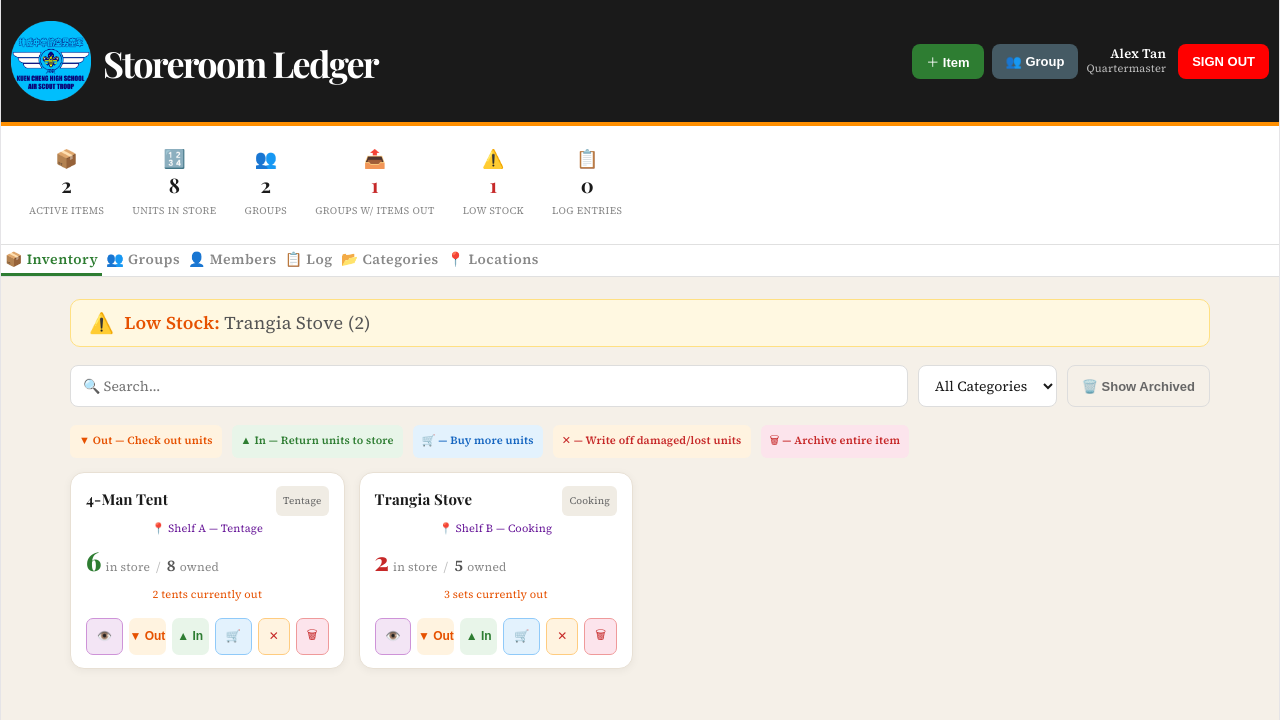
inventory card opens the right modal › opens Check Out
Expected: the heading "4-Man Tent" is shown, [86, 486, 168, 512]
Step 1. Click the button "▼ Out" below "tents" → (147,636), box [129, 618, 166, 655]
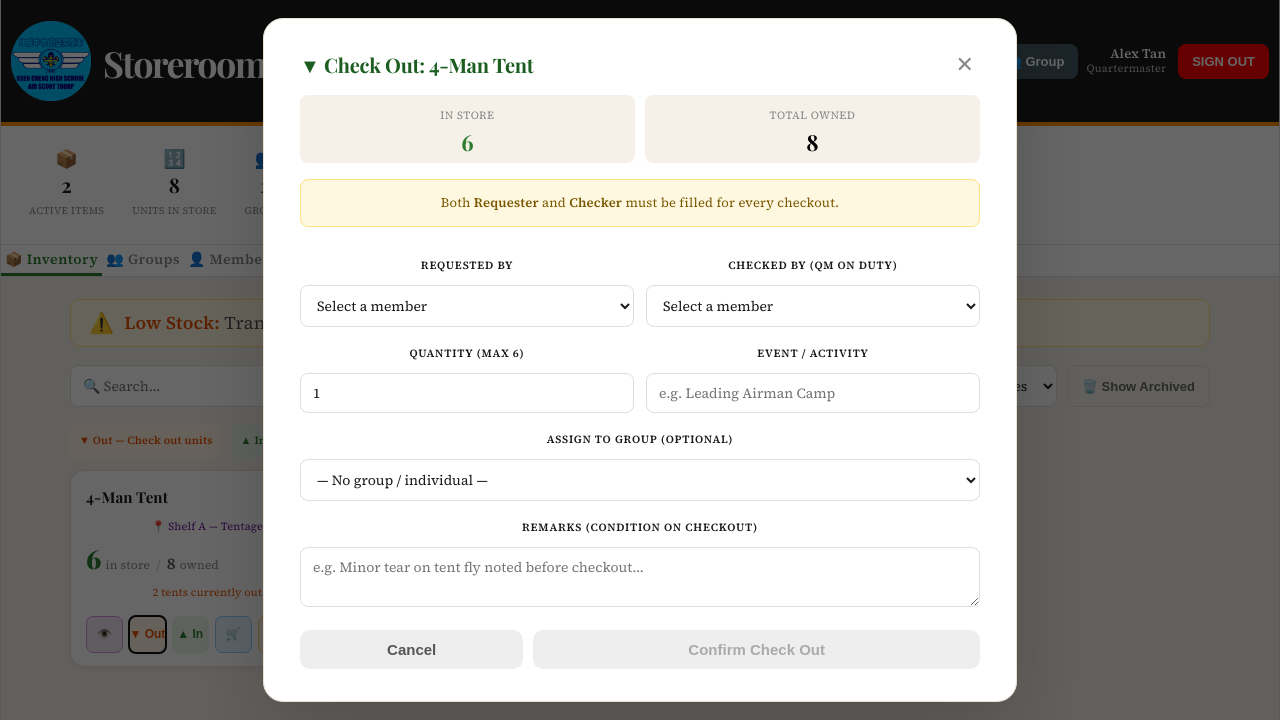
Expected: the button "Confirm Check Out" is shown, [533, 630, 980, 669]
